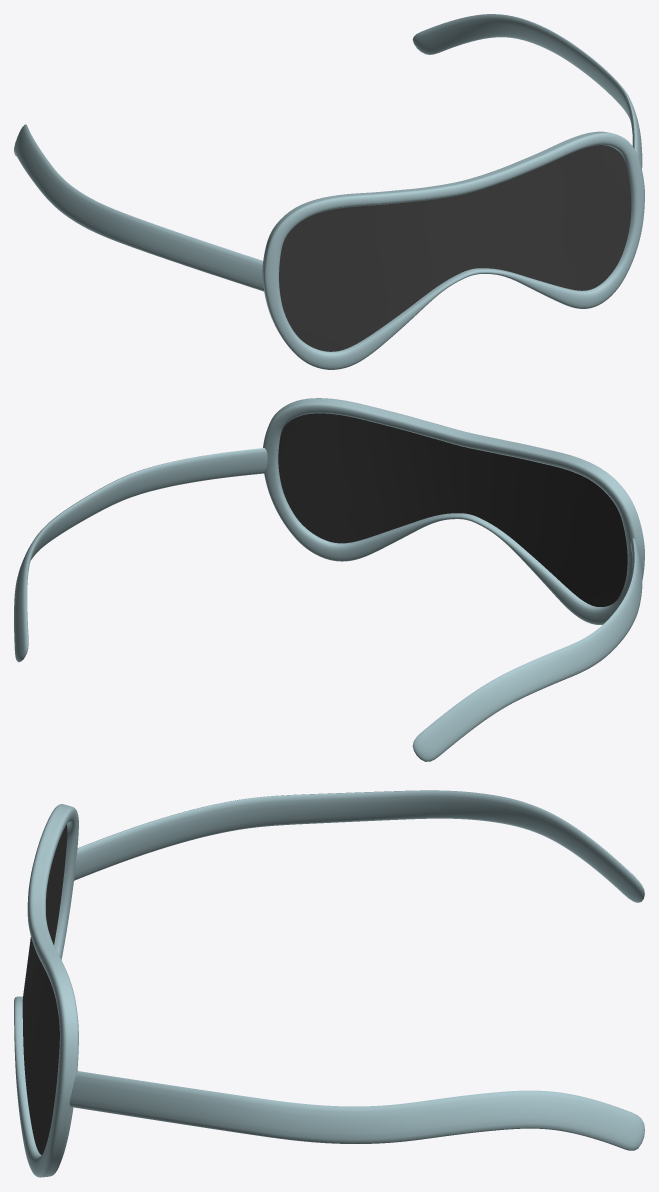
File: Olympia.gltf
3 renders of one model, top to bottom at view 1: azimuth 30°, elevation 25°; view 2: azimuth 150°, elevation 25°; view 3: azimuth 270°, elevation 25°, orthographic. The views are drawn at different scales.
Parts seen in each view (by area): view 1: glasses6-PBR.2, glasses6-PBR; view 2: glasses6-PBR.2, glasses6-PBR; view 3: glasses6-PBR, glasses6-PBR.2.
Boxes of the visible parts, bbox=[...] form: glasses6-PBR.2: bbox=[279, 145, 631, 351]; glasses6-PBR: bbox=[14, 14, 644, 369]; glasses6-PBR.2: bbox=[278, 413, 627, 606]; glasses6-PBR: bbox=[14, 398, 644, 761]; glasses6-PBR: bbox=[14, 790, 644, 1177]; glasses6-PBR.2: bbox=[22, 824, 67, 1155].
Bounding box in the file's own units: 7.53 × 2.2 × 6.19.
